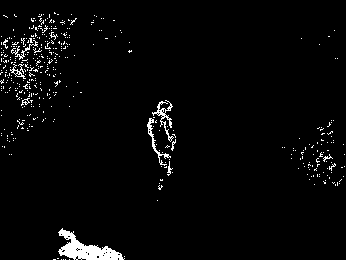person: (150, 97, 182, 195)
